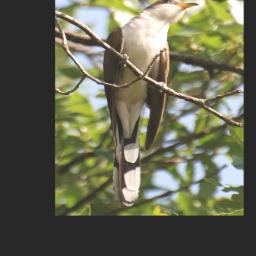Cuckoo: (100, 0, 200, 209)
